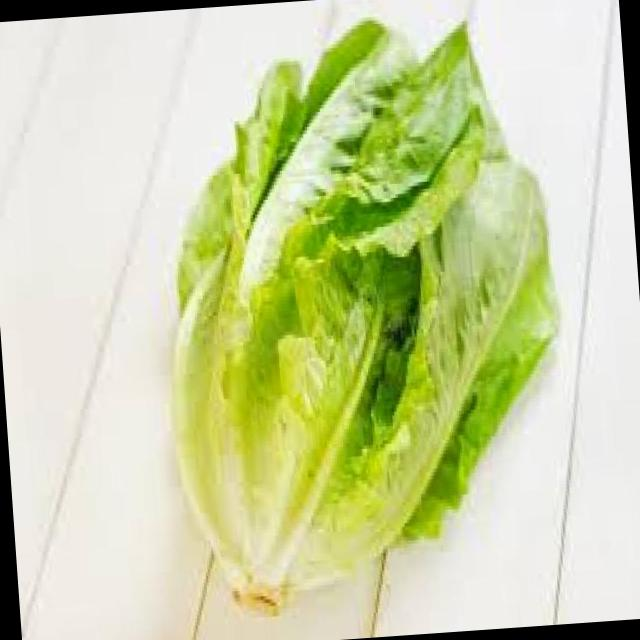Lettuce-Ready-to-Harvest: (175, 21, 554, 611)
